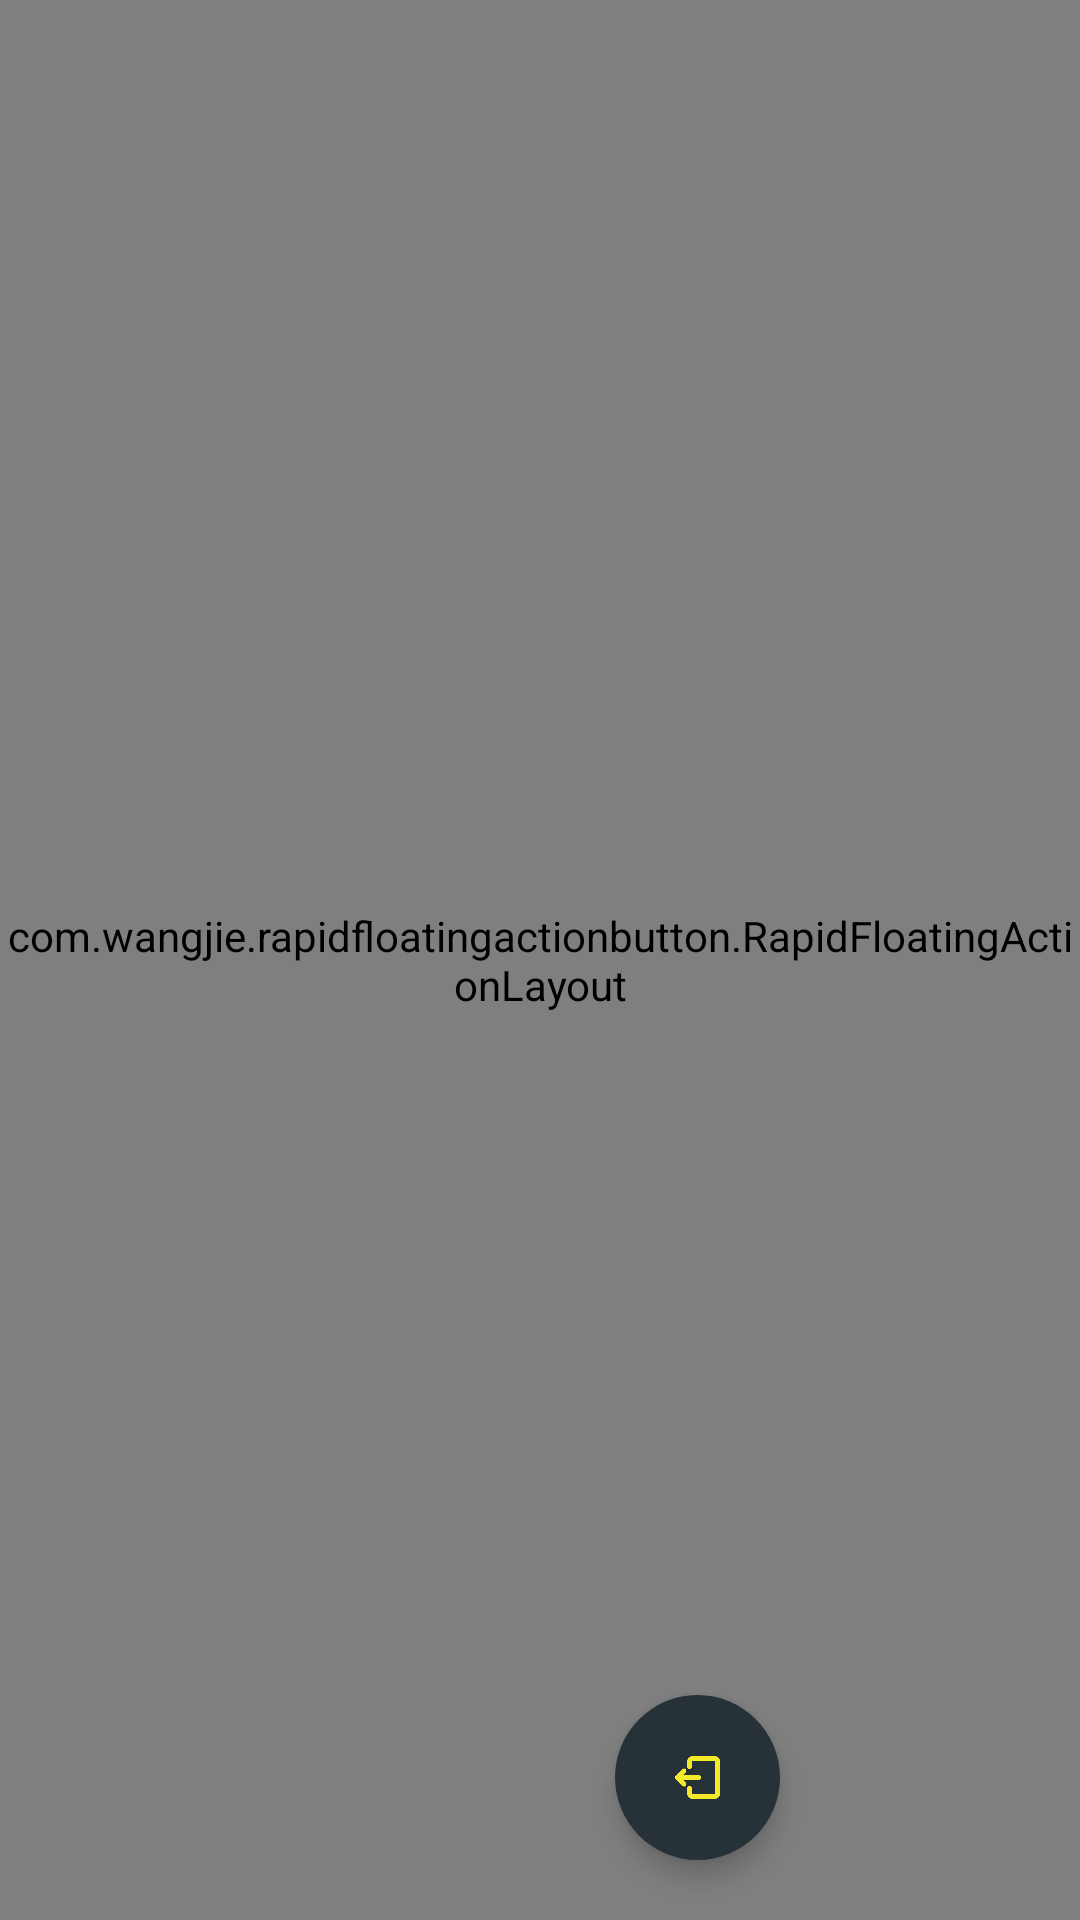

Icons on this 1080 x 1920 Android screen, each with the point to tap as [x,y]:
返回: [697,1777]
